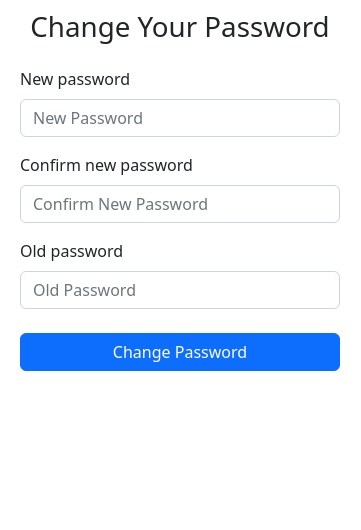
it: Testing EditPassword component › Testing when typing a not valid Password it should shows 'Password should ...'
Type "blabla" into the password field with placeholder "New password" at (180, 118), box [20,99,340,137]
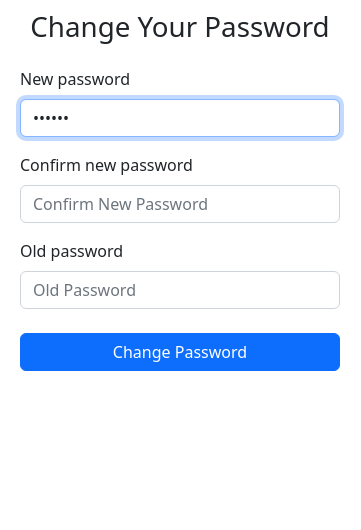
Click the button "Change Password" at (180, 352), box [20,333,340,371]
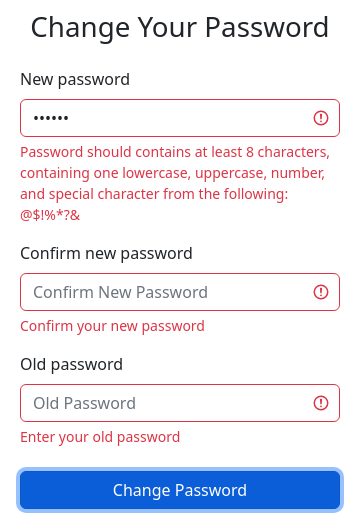
Expected: the text "Password should" is shown, [20,142,330,224]
